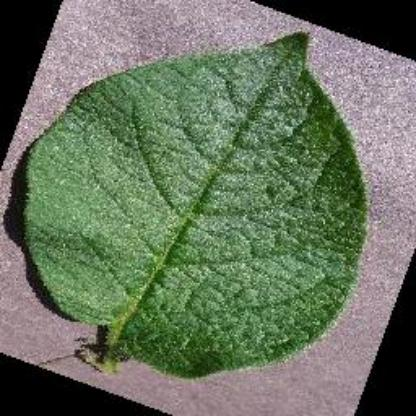Healthy-plant: (11, 26, 374, 384)
